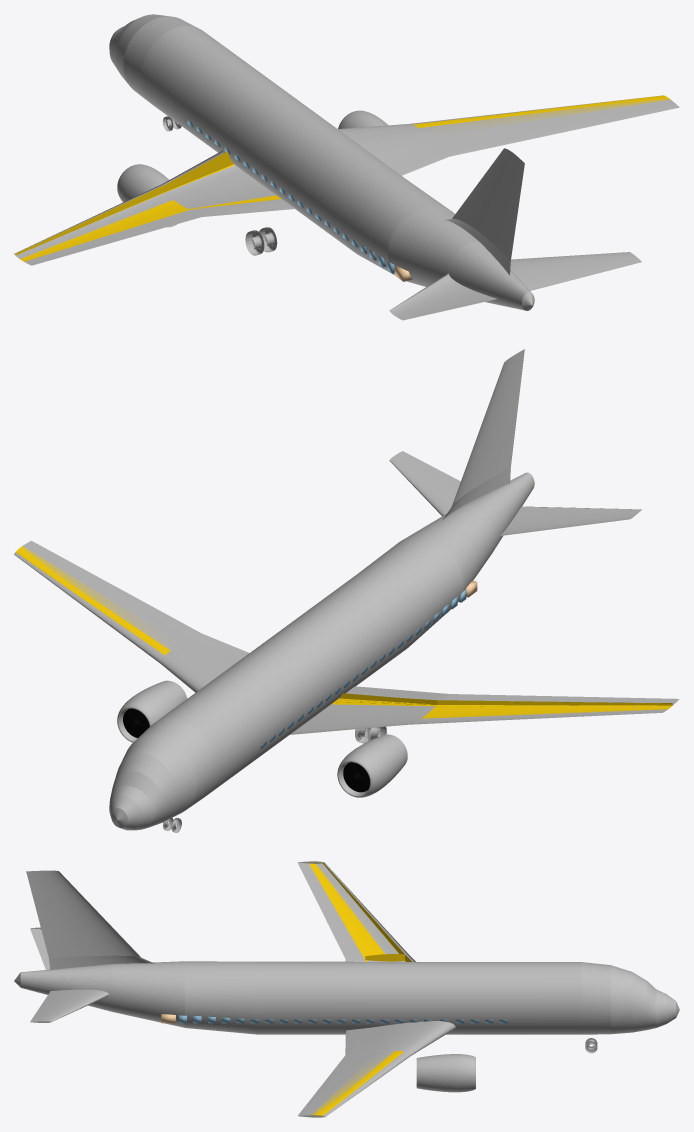
The model's file is Airbus_A320.gltf.
The picture shows the model from 3 angles, top to bottom: view 1: azimuth 30°, elevation 25°; view 2: azimuth 150°, elevation 25°; view 3: azimuth 270°, elevation 25°; orthographic projection. The views are drawn at different scales.
Visible parts, largest first — view 1: Renderer Node; view 2: Renderer Node; view 3: Renderer Node.
Part boxes in pixels (x1,y1,x2,y2): Renderer Node: (14, 14, 679, 320); Renderer Node: (14, 349, 679, 832); Renderer Node: (14, 861, 679, 1117).
Bounding box in the file's own units: 33.87 × 11.41 × 37.57.
